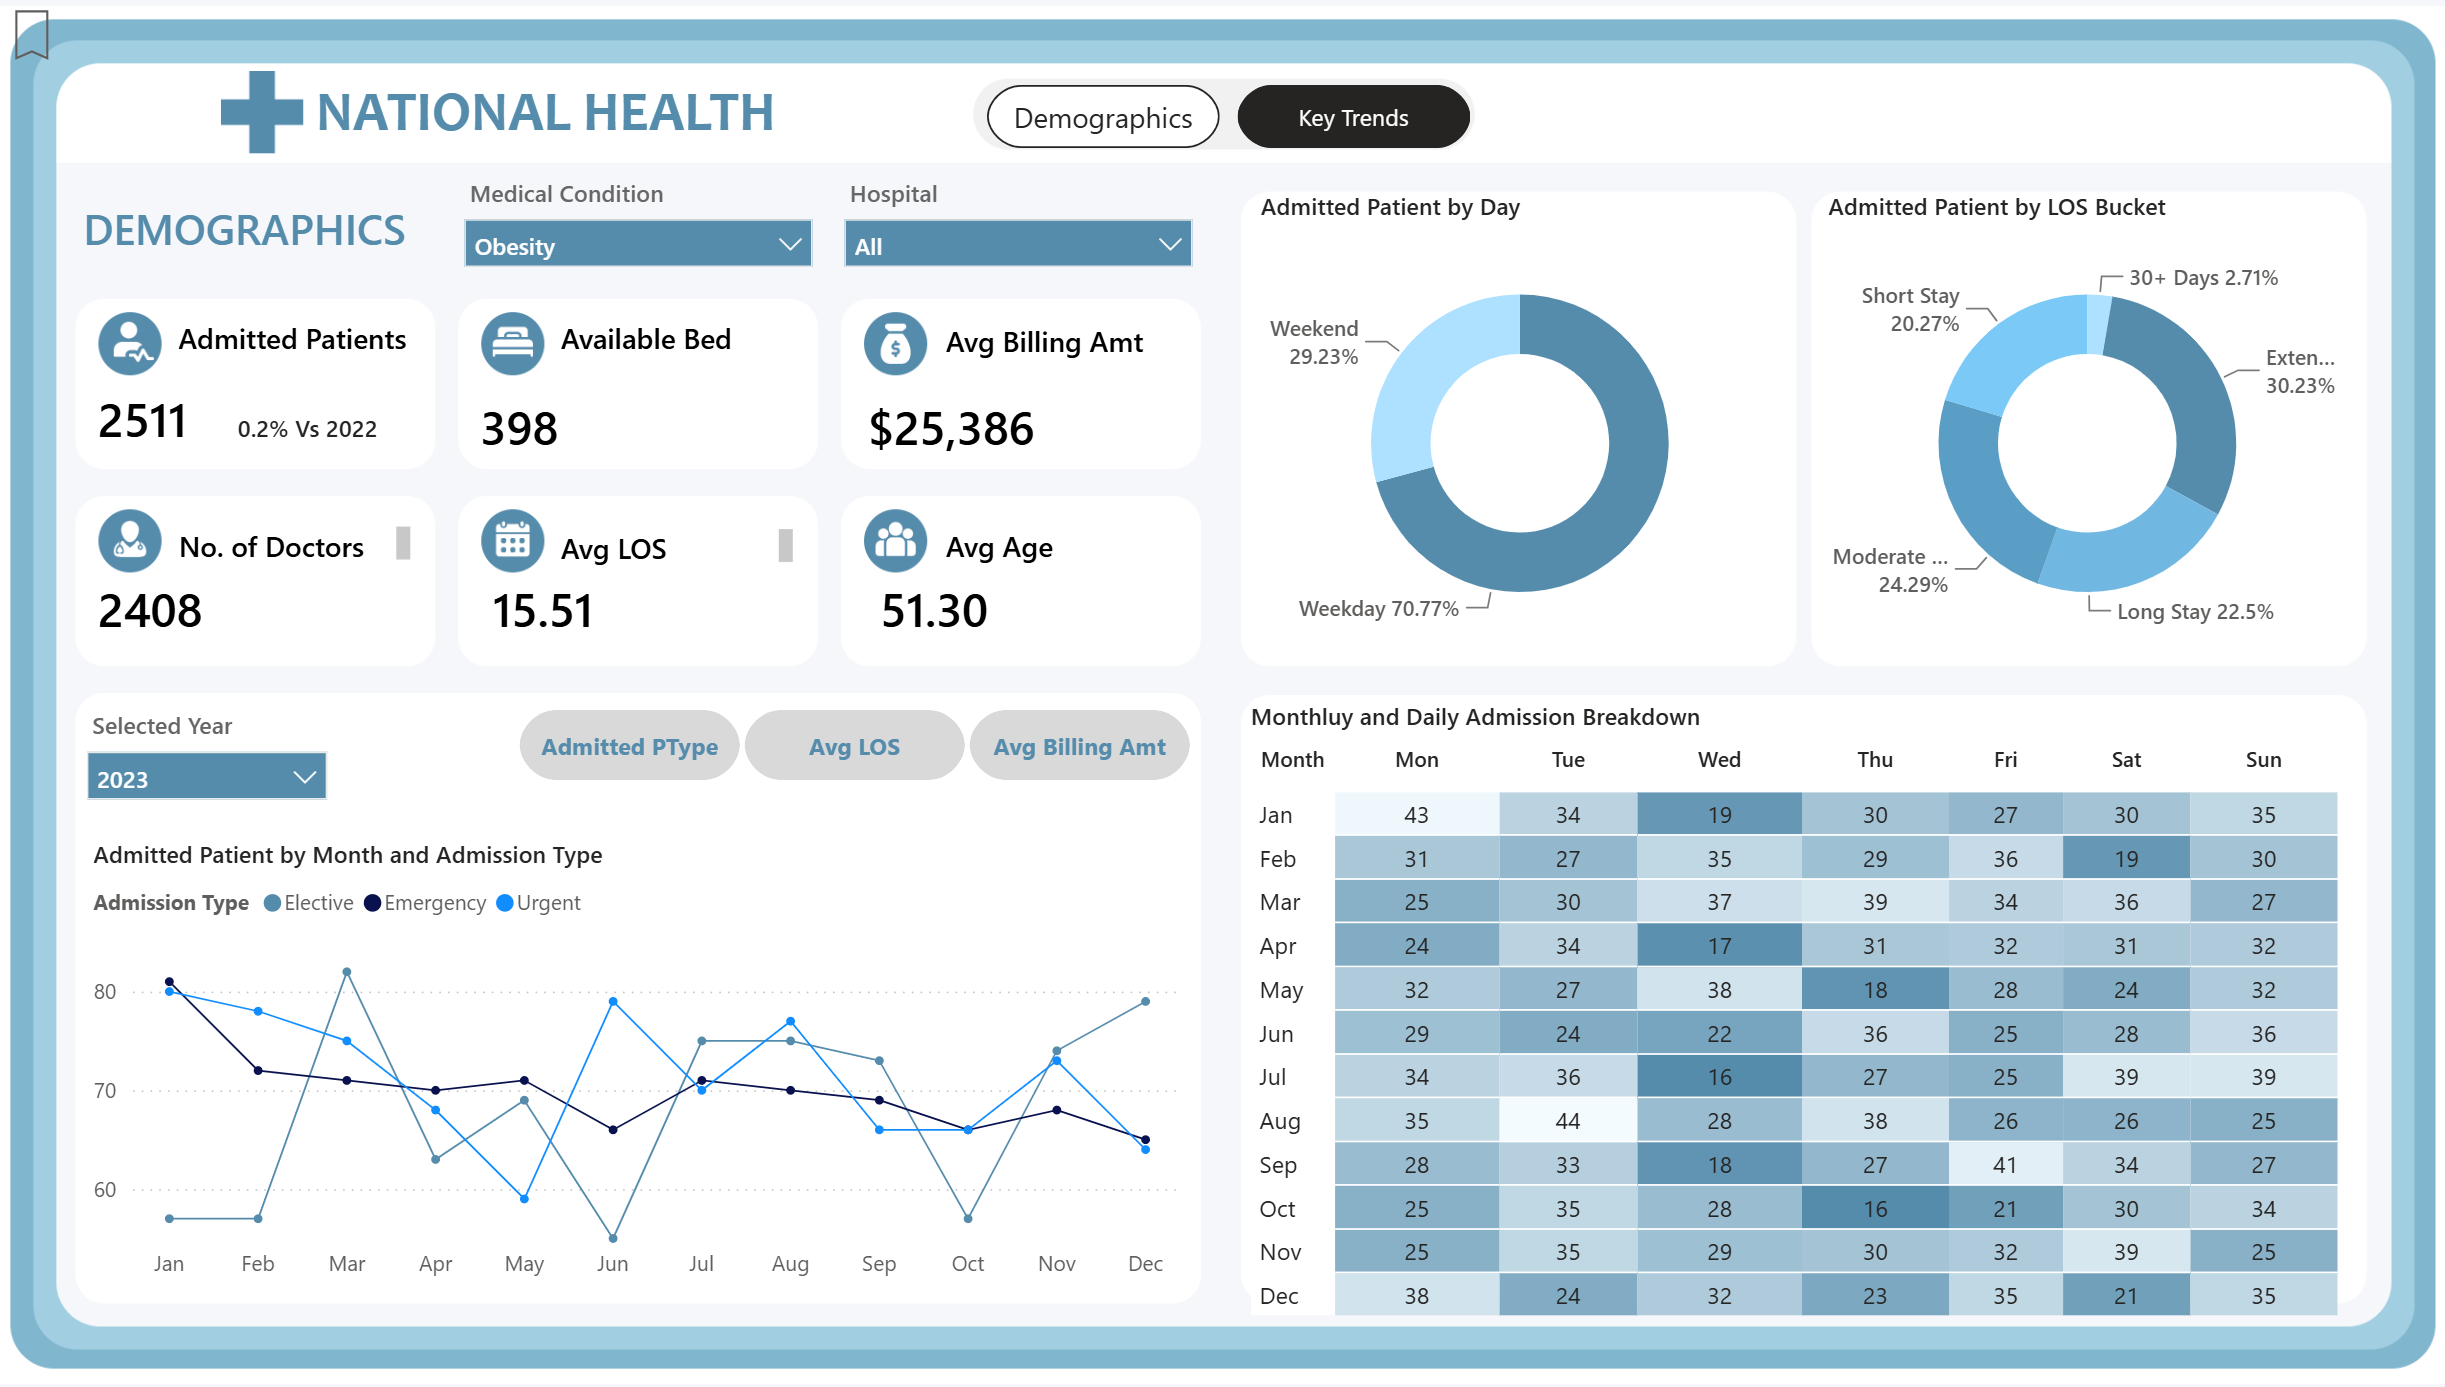

This screenshot's page, from the dashboard's own definition file:
{"tool":"powerbi","page":{"name":"Key Trends","canvas":[1400,800],"ordinal":1},"visuals":[{"type":"textbox","box":[177,38,291,58],"z":0},{"type":"textbox","box":[44.3,108.6,210,60],"z":1000},{"type":"slicer","fields":{"Values":["Date.Year"]},"box":[41.1,400,157.1,61.4],"z":2000},{"type":"cardVisual","fields":{"Data":["Count(Hospital Data.Patient ID)"]},"box":[29,204,179,67],"z":3000},{"type":"textbox","box":[98.9,177.2,143.3,31.1],"z":4000},{"type":"cardVisual","fields":{"Data":["Count(Hospital Data.Room Number)"]},"box":[247,208,139,67],"z":5000},{"type":"textbox","box":[317,177,143,31],"z":6000},{"type":"cardVisual","fields":{"Data":["Avg(Hospital Data.Billing Amount)"]},"box":[468,208,195,67],"z":7000},{"type":"textbox","box":[537,178,262,31],"z":8000},{"type":"cardVisual","fields":{"Data":["Avg(Hospital Data.Age)"]},"box":[476,313,195,67],"z":9000},{"type":"cardVisual","fields":{"Data":["Count(Hospital Data.Doctor)"]},"box":[29,313,195,67],"z":10000},{"type":"slicer","fields":{"Values":["Hospital Data.Medical Condition"]},"box":[256.7,95.6,218.9,76.7],"z":11000},{"type":"cardVisual","fields":{"Data":["Avg(Hospital Data.Length of Stay_LOS)"]},"box":[253.8,312.5,195,67.5],"z":12000},{"type":"textbox","box":[98.8,295,142.5,30],"z":13000},{"type":"textbox","box":[317.5,297.5,142.5,30],"z":14000},{"type":"textbox","box":[537.5,295,133.8,72.5],"z":15000},{"type":"actionButton","box":[0,0,100,40],"z":16000},{"type":"pivotTable","title":"Monthluy and Daily Admission Breakdown","fields":{"Rows":["Date.Month"],"Columns":["Date.Day"],"Values":["Hospital Data.Admitted Patient"]},"box":[711.7,400,635,365],"z":21000},{"type":"cardVisual","fields":{"Data":["Hospital Data.Growth Label"]},"box":[108.9,214.4,167.8,58.9],"z":22000},{"type":"lineChart","fields":{"Category":["Date.Month"],"Y":["Hospital Data.Admitted Patient"],"Series":["Hospital Data.Admission Type"]},"box":[50.4,478.7,631.4,261.4],"z":23000},{"type":"actionButton","title":"Ad ptype","box":[298,406,126,40],"z":24000},{"type":"actionButton","title":"AVG LOS","box":[427,406,126,40],"z":25000},{"type":"actionButton","title":"Avg Billing Amt","box":[556,405.6,126,40],"z":26000},{"type":"slicer","fields":{"Values":["Hospital Data.Hospital"]},"box":[474.4,95.6,218.9,76.7],"z":29000},{"type":"donutChart","fields":{"Category":["Hospital Data.LOS Bucket"],"Y":["Hospital Data.Admitted Patient"]},"box":[1041.4,108.6,305.7,271.4],"z":30000},{"type":"donutChart","fields":{"Y":["Hospital Data.Admitted Patient"],"Category":["Date.Day Type 2"]},"box":[717.1,108.6,305.7,271.4],"z":31000},{"type":"pageNavigator","box":[565,48.8,276.2,36.2],"z":32000}]}

Visuals, with their boxes in screenshot pixels (x1, y1, x2, y2), scaled from the page's 1400x800 canvas onto the 2445x1387 screenshot:
textbox: (309, 66, 817, 166)
textbox: (77, 188, 444, 292)
slicer - Date.Year: (72, 694, 346, 800)
cardVisual - Count(Hospital Data.Patient ID): (51, 354, 363, 470)
textbox: (173, 307, 423, 361)
cardVisual - Count(Hospital Data.Room Number): (431, 361, 674, 477)
textbox: (554, 307, 803, 361)
cardVisual - Avg(Hospital Data.Billing Amount): (817, 361, 1158, 477)
textbox: (938, 309, 1395, 362)
cardVisual - Avg(Hospital Data.Age): (831, 543, 1172, 659)
cardVisual - Count(Hospital Data.Doctor): (51, 543, 391, 659)
slicer - Hospital Data.Medical Condition: (448, 166, 831, 299)
cardVisual - Avg(Hospital Data.Length of Stay_LOS): (443, 542, 784, 659)
textbox: (173, 511, 421, 563)
textbox: (554, 516, 803, 568)
textbox: (939, 511, 1172, 637)
actionButton: (0, 0, 175, 69)
"Monthluy and Daily Admission Breakdown" pivotTable: (1243, 694, 2352, 1326)
cardVisual - Hospital Data.Growth Label: (190, 372, 483, 474)
lineChart - Date.Month x Hospital Data.Admitted Patient: (88, 830, 1191, 1283)
"Ad ptype" actionButton: (520, 704, 740, 773)
"AVG LOS" actionButton: (746, 704, 966, 773)
"Avg Billing Amt" actionButton: (971, 703, 1191, 773)
slicer - Hospital Data.Hospital: (829, 166, 1211, 299)
donutChart - Hospital Data.LOS Bucket x Hospital Data.Admitted Patient: (1819, 188, 2353, 659)
donutChart - Hospital Data.Admitted Patient x Date.Day Type 2: (1252, 188, 1786, 659)
pageNavigator: (987, 85, 1469, 147)
